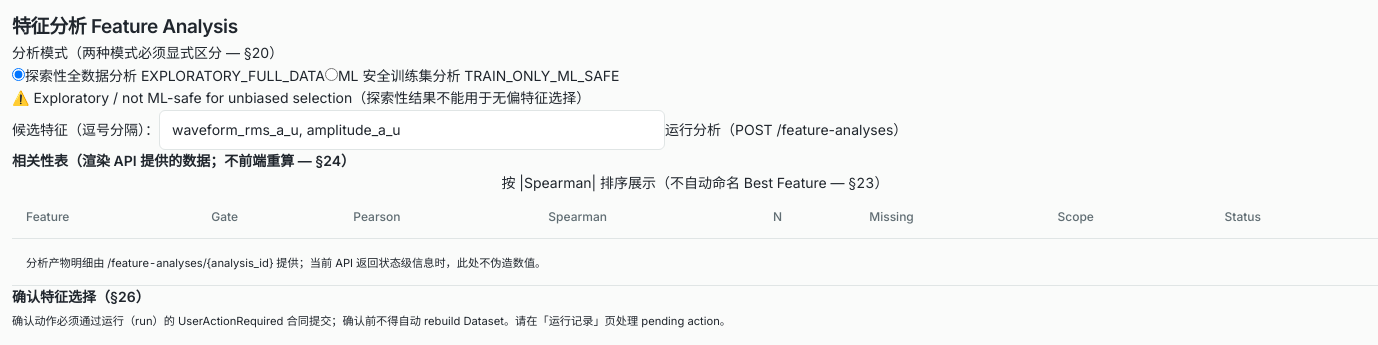
Test case: FeatureAnalysisPage（§62 T25-T31） › T26/T27 ML-safe 模式 banner: TRAIN/HELD_OUT 语义
The width and height of the screenshot is (1378, 345).
Step 1. Click the radio button labelled "ML 安全训练集分析 TRAIN_ONLY_ML_SAFE" → (331, 74), box [325, 68, 338, 81]
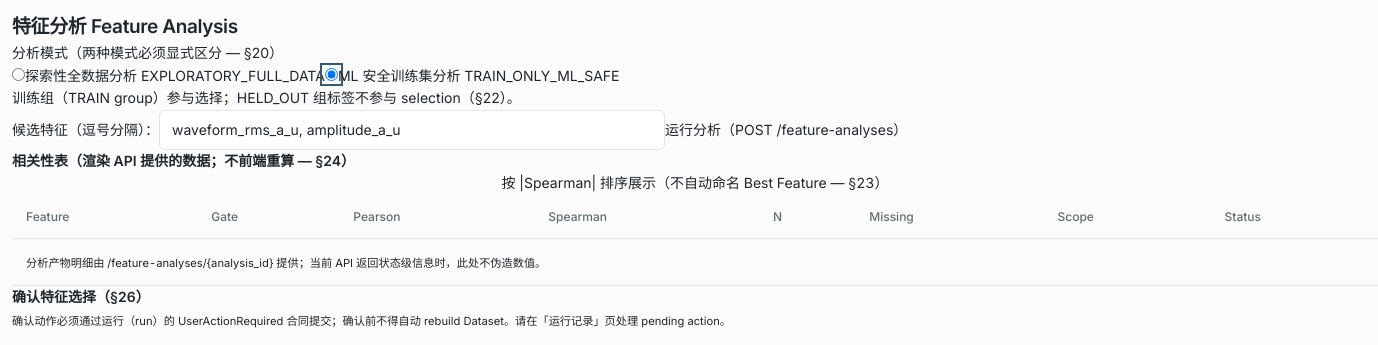
Result: the text with test id "mlsafe-banner" shows "HELD_OUT 组标签不参与 selection" at [12, 89, 521, 106]
